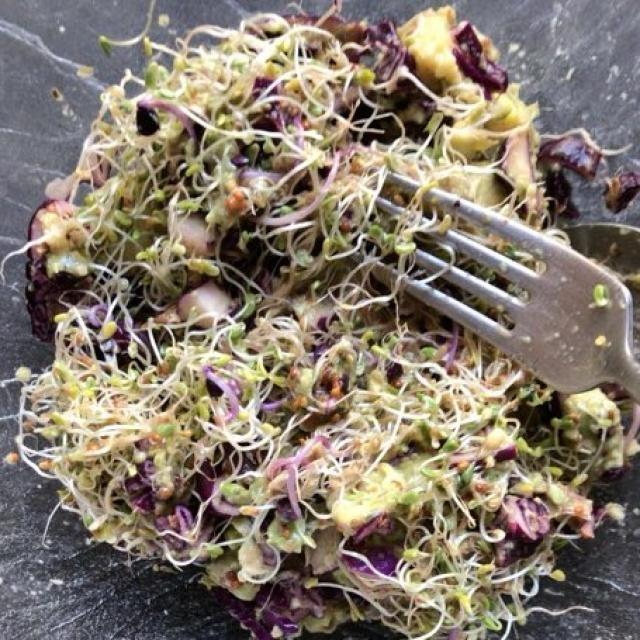shoots: (34, 20, 629, 628)
